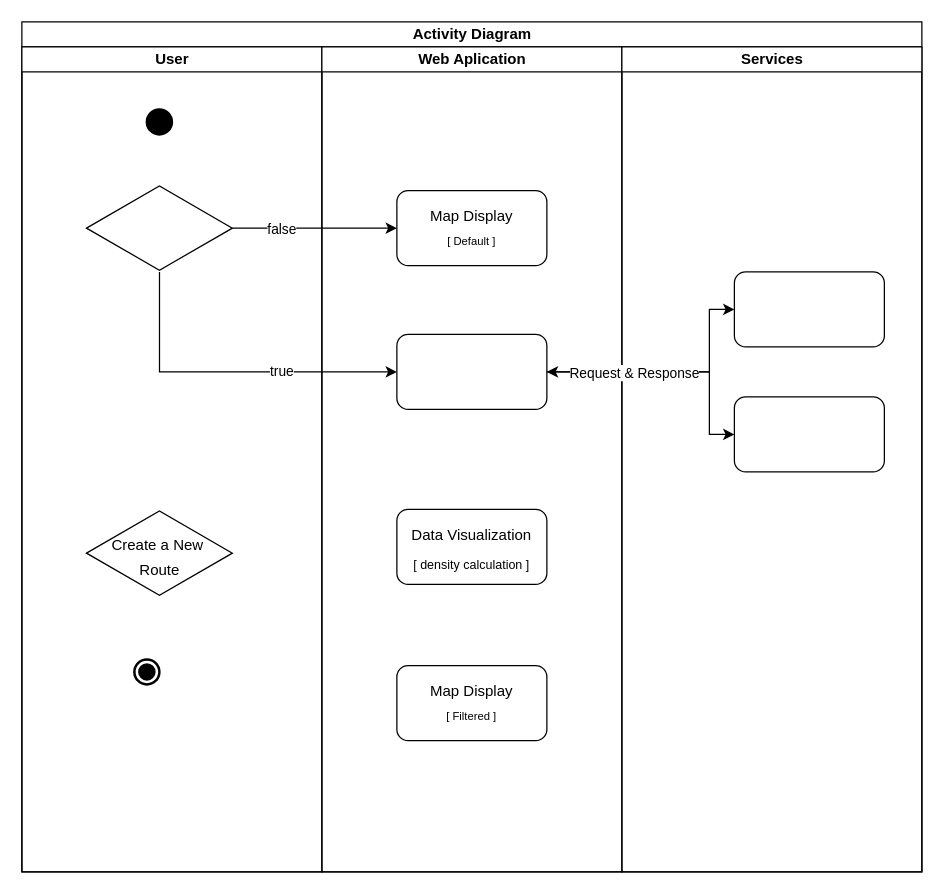
The diagram is 944 pixels wide and 894 high, and some of its shapes have lost their labels. Each missing label, with the centre of its shape:
"Data Processing [ Form Filtered ]" goes at (471,371).
"Database Service [ Own Data ]" goes at (808,434).
"NASA Service [ Firms ]" goes at (808,309).
"Select Filter" goes at (158,227).
